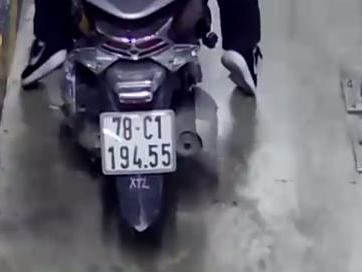num_plate: (101, 109, 175, 173)
